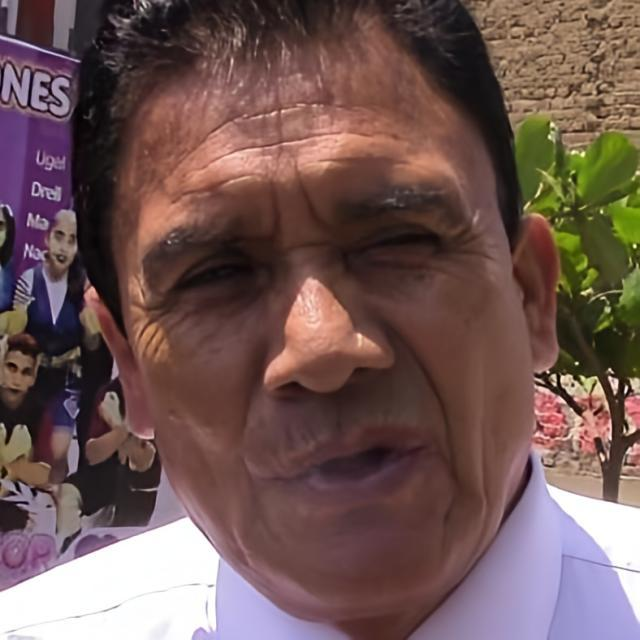disgust: (113, 2, 536, 626)
